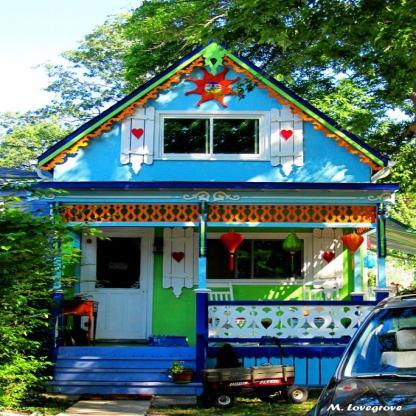Building Outline: (27, 35, 400, 395)
Deco: (119, 96, 156, 176), (270, 98, 304, 177), (162, 221, 194, 298), (184, 67, 243, 108), (313, 223, 344, 299)
Dont: (0, 178, 111, 409), (305, 294, 416, 416), (198, 343, 308, 409)
Door: (80, 226, 155, 344)
Facade: (68, 143, 356, 388)
Floor Slab: (55, 191, 370, 203)
Ground Floor: (55, 203, 361, 346)
Molding: (38, 41, 384, 171), (27, 189, 395, 203), (207, 205, 376, 223), (60, 204, 201, 222)
Top Floor: (54, 46, 370, 190)
Window: (201, 239, 304, 280), (161, 116, 262, 157)
Window Outline: (193, 232, 313, 285), (153, 111, 271, 161)
